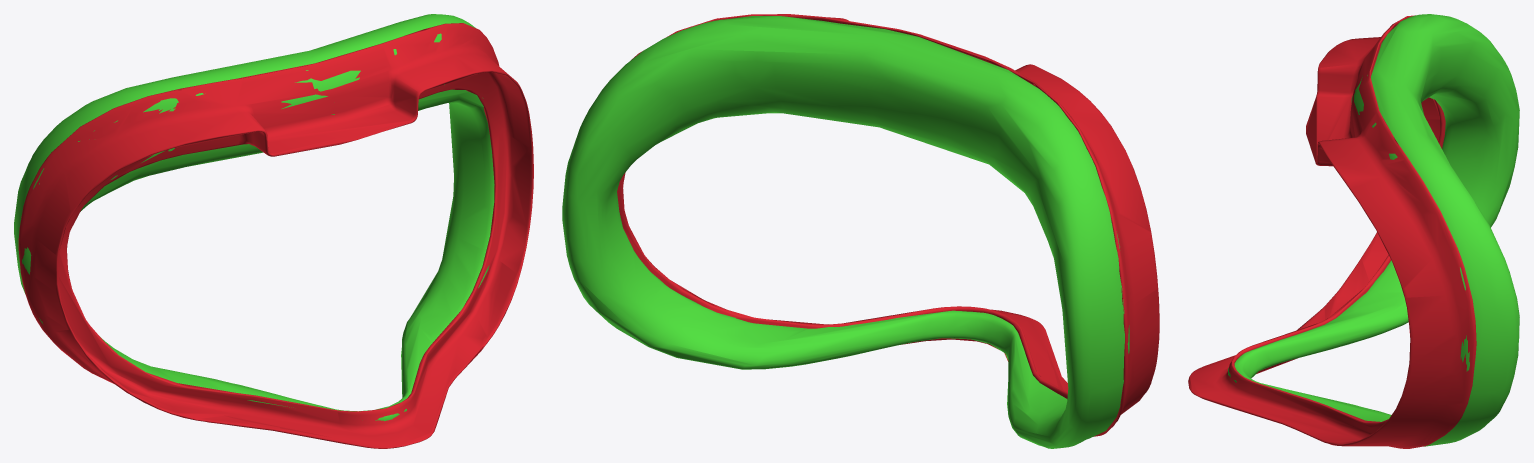
File: kis.fbx
3 renders of one model, left to right at view 1: azimuth 30°, elevation 25°; view 2: azimuth 150°, elevation 25°; view 3: azimuth 270°, elevation 25°, orthographic. The views are drawn at different scales.
Visible parts, largest first — view 1: kissen; view 2: kissen; view 3: kissen.
Part boxes in pixels (left/top/right/bottom): kissen: left=14, top=14, right=533, bottom=448; kissen: left=562, top=14, right=1159, bottom=448; kissen: left=1188, top=14, right=1519, bottom=448.
Bounding box in the file's own units: 121 × 75.83 × 73.26.
